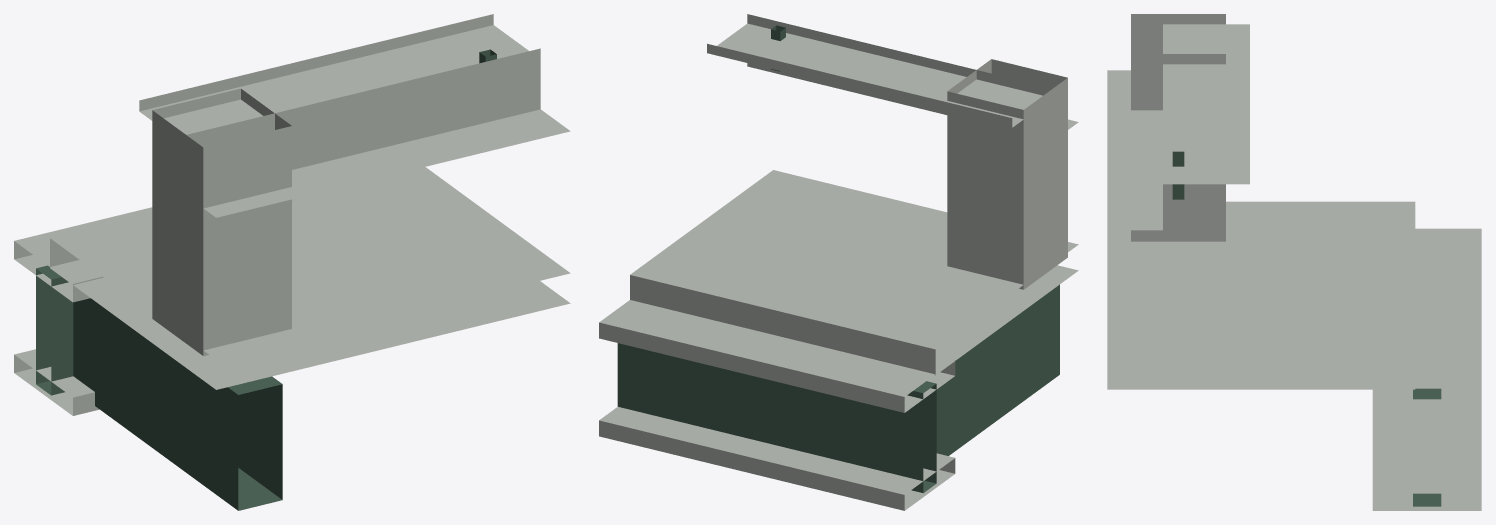
File: cell_1.obj
The picture shows the model from 3 angles, left to right: view 1: azimuth 30°, elevation 25°; view 2: azimuth 150°, elevation 25°; view 3: azimuth 270°, elevation 25°; orthographic projection. The views are drawn at different scales.
Size of the model in its own units: 1 by 0.9812 by 0.9875.
